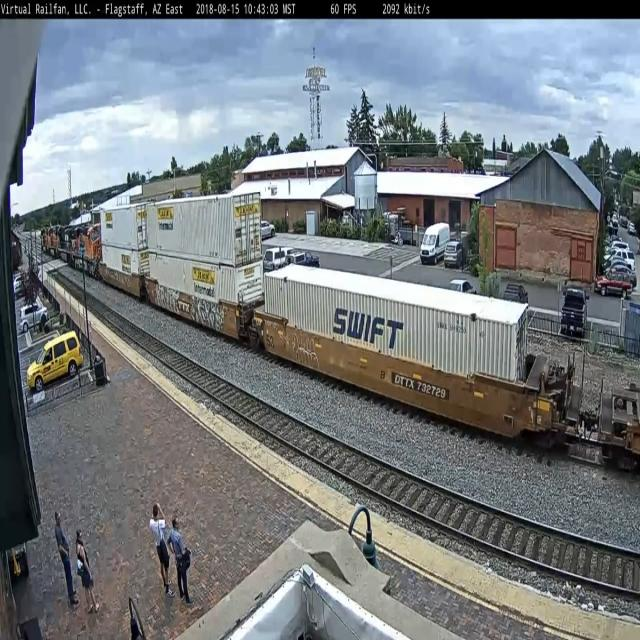container: (261, 257, 529, 388), (146, 186, 264, 272), (147, 250, 264, 307)
flatcar: (254, 302, 555, 458), (144, 273, 248, 345)
